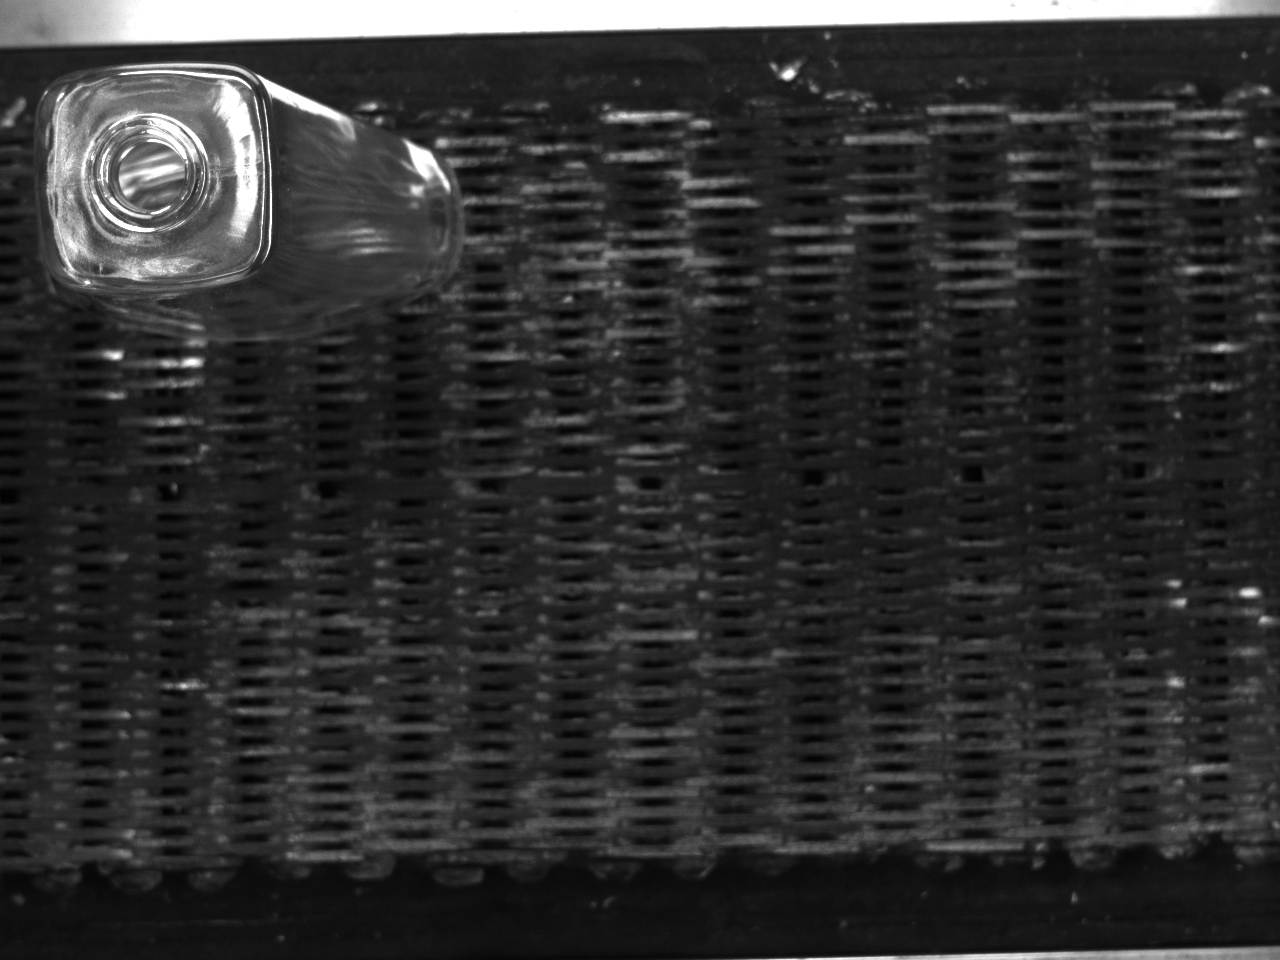bottleneck: (83, 113, 210, 235)
